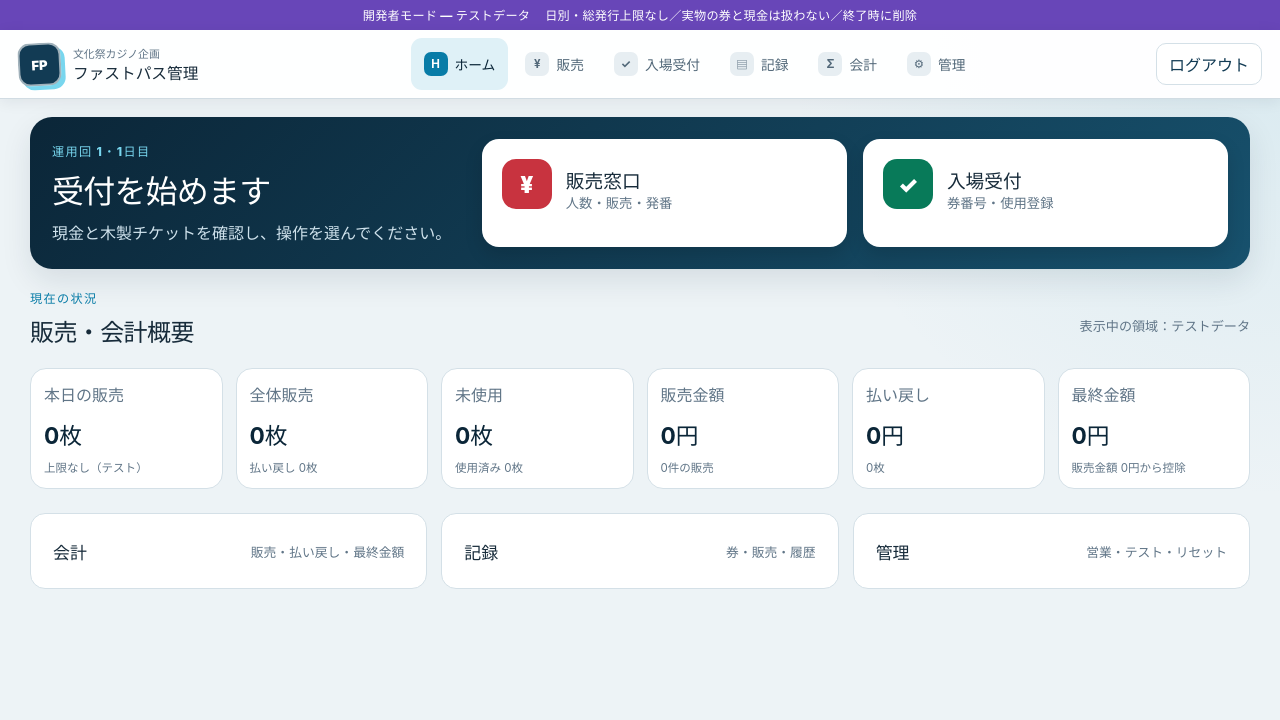
複数端末と遅い状態取得 › 状態競合を受けた端末は直ちに最新状態を表示する
The image size is (1280, 720).
Expected: the heading "受付を始めます" is shown, [52,172,270,211]
Click the button "¥ 販売" at (555, 64), box [512,38,597,90]
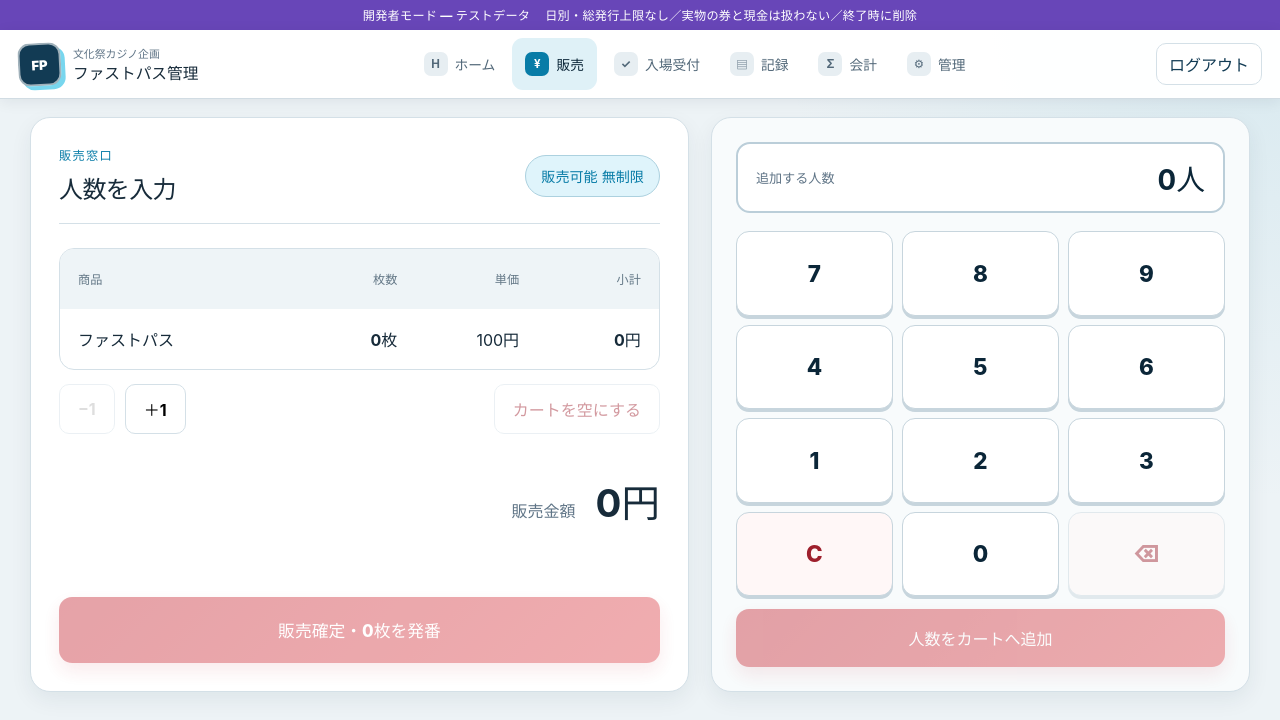
Click the button "＋1" at (155, 409), box [125,384,186,434]
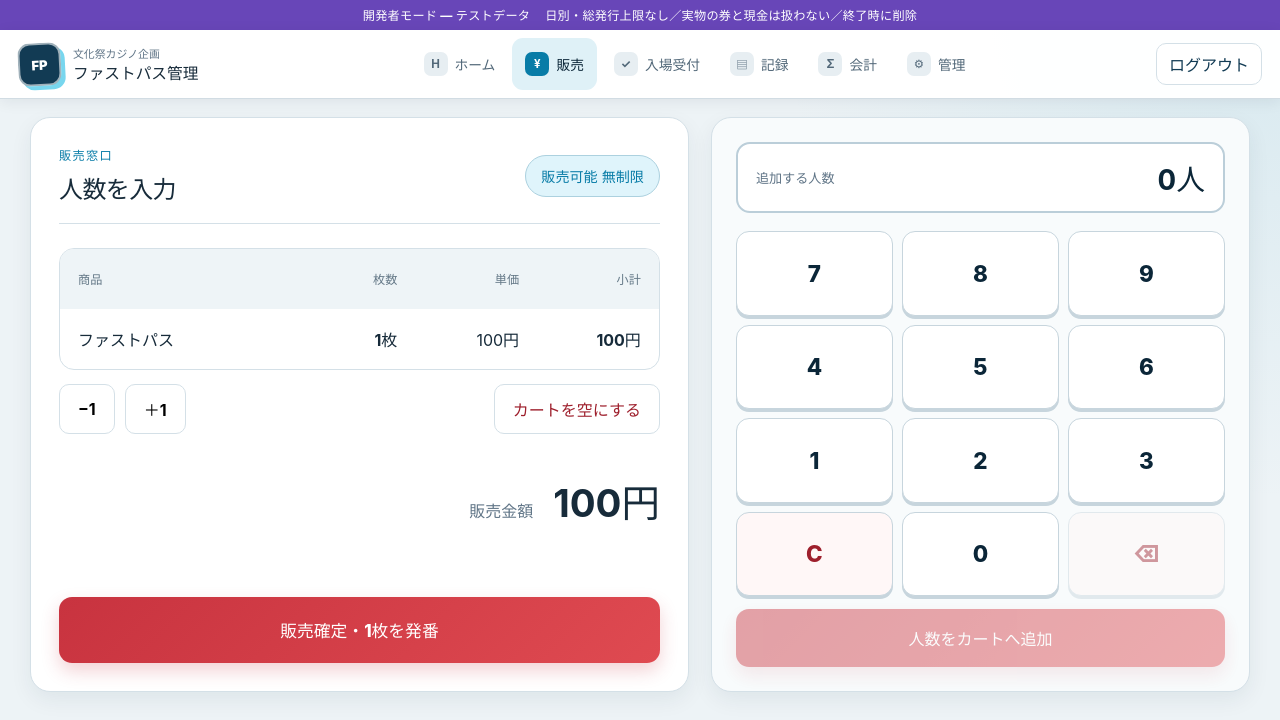
Click the button "販売確定・1枚を発番" at (359, 630), box [59,597,660,663]
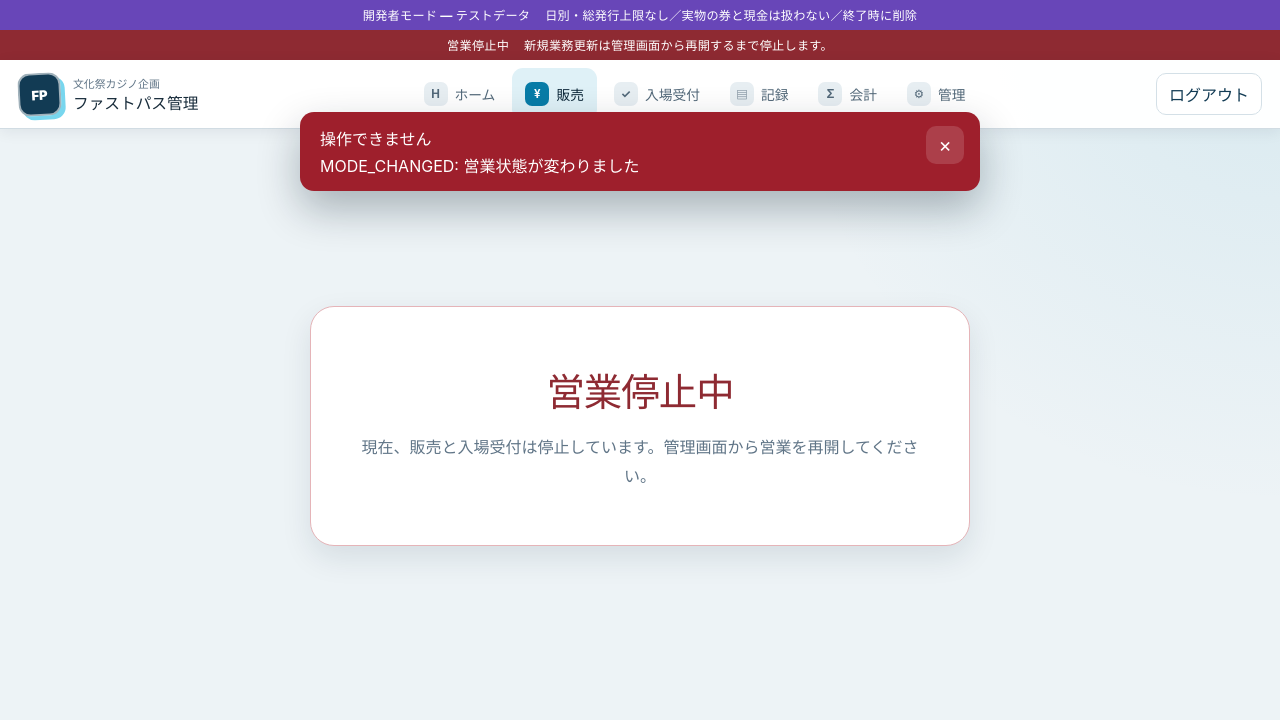
Expected: the heading "営業停止中" is shown, [546,369,734,415]
